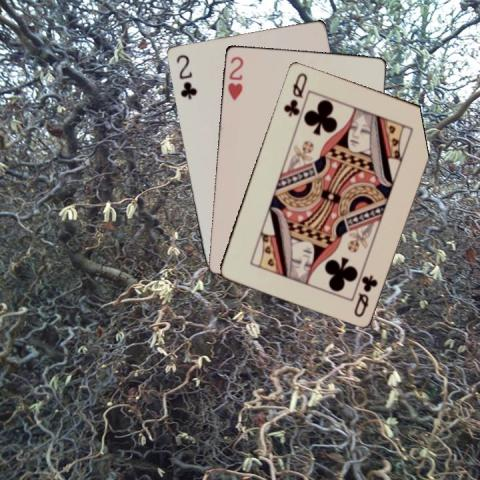2c: (173, 51, 198, 101)
2h: (224, 54, 245, 102)
Qc: (280, 70, 309, 118), (351, 271, 379, 318)
